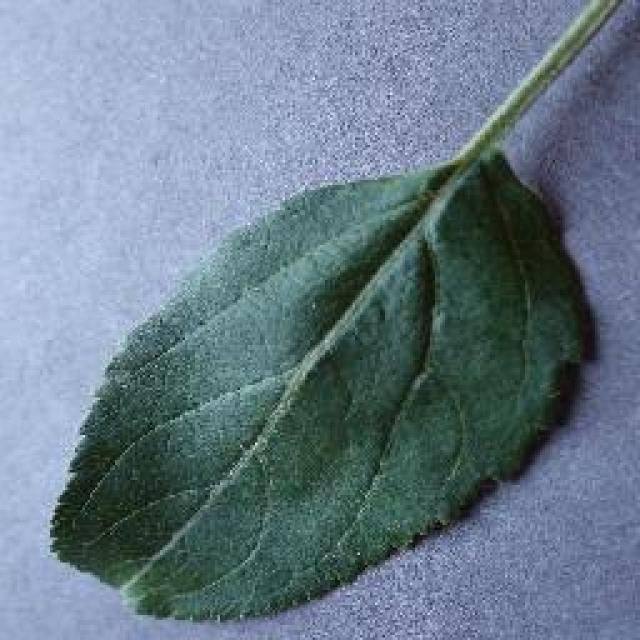apple healthy: (45, 0, 637, 625)
